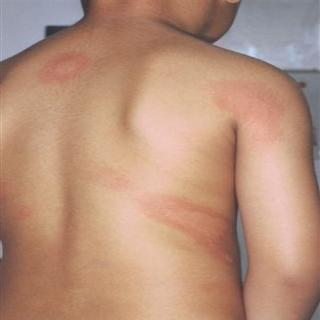urticaria: (139, 182, 225, 253), (212, 80, 288, 136), (38, 49, 94, 83)
